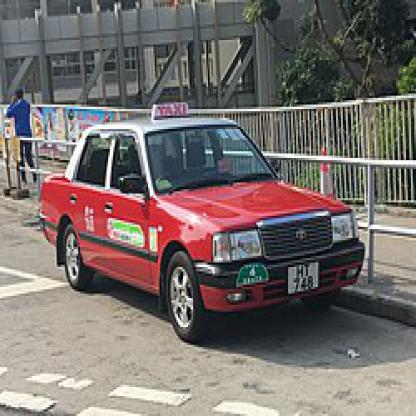taxi: (38, 99, 369, 350)
